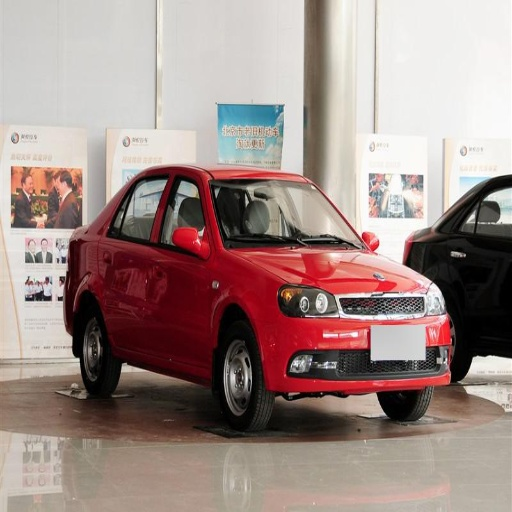front_bumper: (261, 293, 440, 391)
front_right_door: (155, 170, 211, 366)
trunk: (307, 314, 368, 352)
